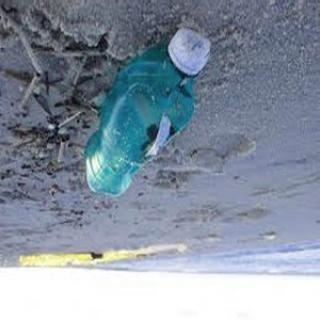Plastic: (78, 20, 210, 197)
